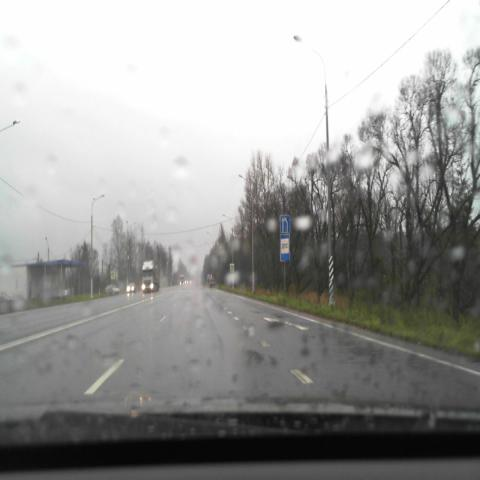7_12: (280, 234, 290, 261)
